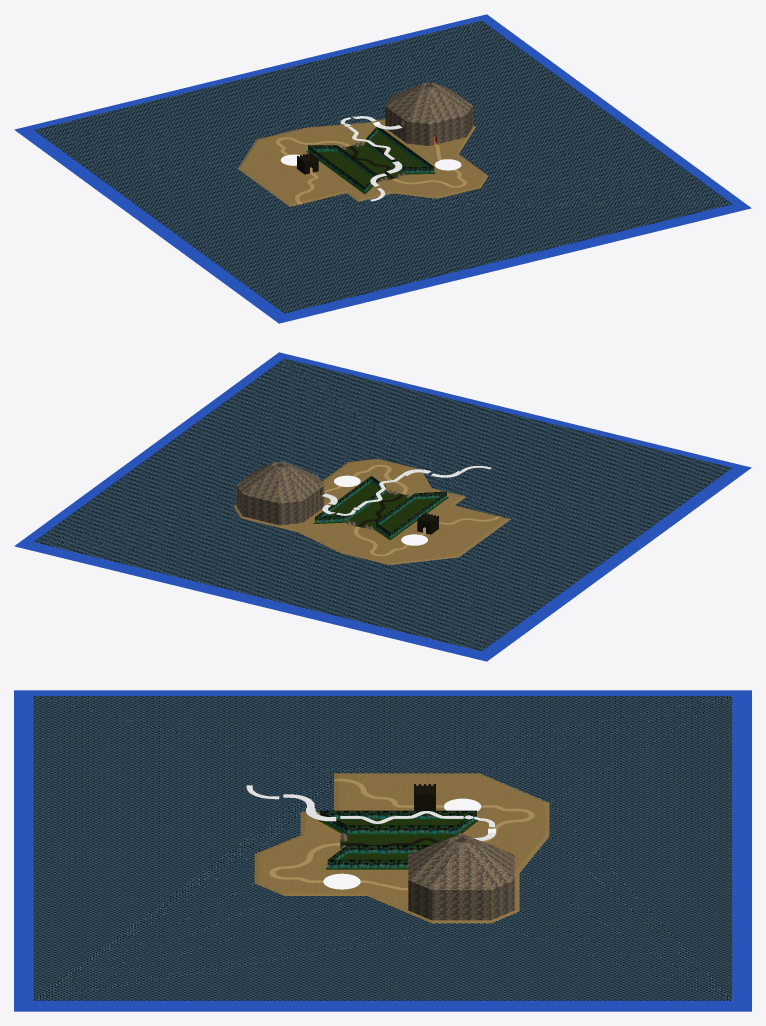
3 views of the same model, one above another, from view 1: azimuth 30°, elevation 25°; view 2: azimuth 150°, elevation 25°; view 3: azimuth 270°, elevation 25° (orthographic). The views are drawn at different scales.
Visible parts, largest first — view 1: course-SKP--island_ocean, course-SKP--island_beachoutroad-ocean, course-SKP--island_beachslowdownroad, course-SKP--island_wall_stonereef, course-SKP--island_junglegrass, course-SKP--island_junglewall, course-SKP--island_beachroad, course-SKP--island_cloudroad; view 2: course-SKP--island_ocean, course-SKP--island_beachoutroad-ocean, course-SKP--island_beachslowdownroad, course-SKP--island_wall_stonereef, course-SKP--island_junglegrass, course-SKP--island_junglewall, course-SKP--island_cloudroad, course-SKP--island_beachroad; view 3: course-SKP--island_ocean, course-SKP--island_beachoutroad-ocean, course-SKP--island_beachslowdownroad, course-SKP--island_wall_stonereef, course-SKP--island_junglewall, course-SKP--island_junglegrass, course-SKP--island_beachroad, course-SKP--island_cloudroad, course-SKP--island_beachsandwall.
Boxes of the visible parts, x1=… form: course-SKP--island_ocean: x1=34, y1=20, x2=732, y2=313; course-SKP--island_beachoutroad-ocean: x1=14, y1=14, x2=751, y2=323; course-SKP--island_beachslowdownroad: x1=238, y1=118, x2=488, y2=206; course-SKP--island_wall_stonereef: x1=342, y1=82, x2=472, y2=181; course-SKP--island_junglegrass: x1=306, y1=132, x2=435, y2=194; course-SKP--island_junglewall: x1=308, y1=127, x2=434, y2=192; course-SKP--island_beachroad: x1=275, y1=137, x2=466, y2=204; course-SKP--island_cloudroad: x1=340, y1=116, x2=402, y2=201; course-SKP--island_ocean: x1=33, y1=358, x2=731, y2=651; course-SKP--island_beachoutroad-ocean: x1=14, y1=352, x2=751, y2=661; course-SKP--island_beachslowdownroad: x1=233, y1=458, x2=510, y2=564; course-SKP--island_wall_stonereef: x1=236, y1=461, x2=410, y2=529; course-SKP--island_junglegrass: x1=313, y1=482, x2=448, y2=540; course-SKP--island_junglewall: x1=315, y1=476, x2=446, y2=538; course-SKP--island_cloudroad: x1=322, y1=465, x2=491, y2=515; course-SKP--island_beachroad: x1=324, y1=464, x2=501, y2=556; course-SKP--island_ocean: x1=33, y1=696, x2=732, y2=1000; course-SKP--island_beachoutroad-ocean: x1=14, y1=690, x2=751, y2=1011; course-SKP--island_beachslowdownroad: x1=254, y1=773, x2=549, y2=923; course-SKP--island_wall_stonereef: x1=340, y1=833, x2=514, y2=920; course-SKP--island_junglewall: x1=319, y1=810, x2=476, y2=868; course-SKP--island_junglegrass: x1=318, y1=819, x2=478, y2=869; course-SKP--island_beachroad: x1=269, y1=778, x2=534, y2=890; course-SKP--island_cloudroad: x1=246, y1=785, x2=495, y2=840; course-SKP--island_beachsandwall: x1=414, y1=784, x2=435, y2=810.
Size of the model in its own units: 385037 by 36500 by 373819.
Materials: 16 (16 with a texture image).
